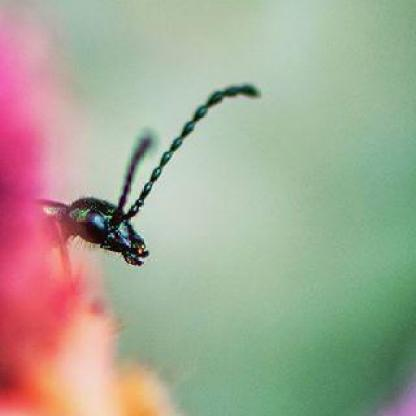beetle: (46, 85, 256, 274)
